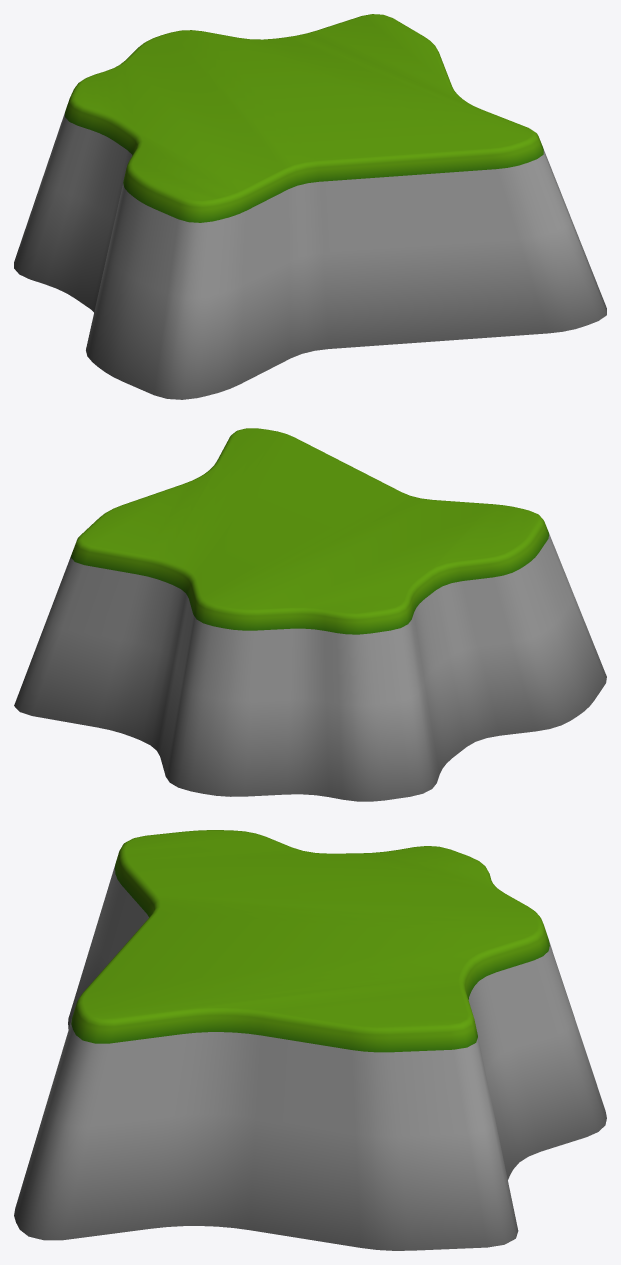
Rendered from Mountain04.fbx.
The picture shows the model from 3 angles, top to bottom: view 1: azimuth 30°, elevation 25°; view 2: azimuth 150°, elevation 25°; view 3: azimuth 270°, elevation 25°; orthographic projection. The views are drawn at different scales.
Visible parts, largest first — view 1: LOD0; view 2: LOD0; view 3: LOD0.
Part boxes in pixels (<box>): LOD0: <box>14,14,606,399</box>; LOD0: <box>14,428,606,801</box>; LOD0: <box>14,830,606,1250</box>.
Size of what is drawn, in the model's own units: 1062 by 1039 by 375.
